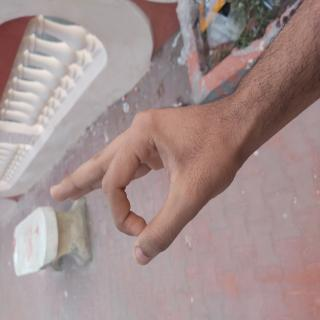Space: (37, 56, 172, 312)
